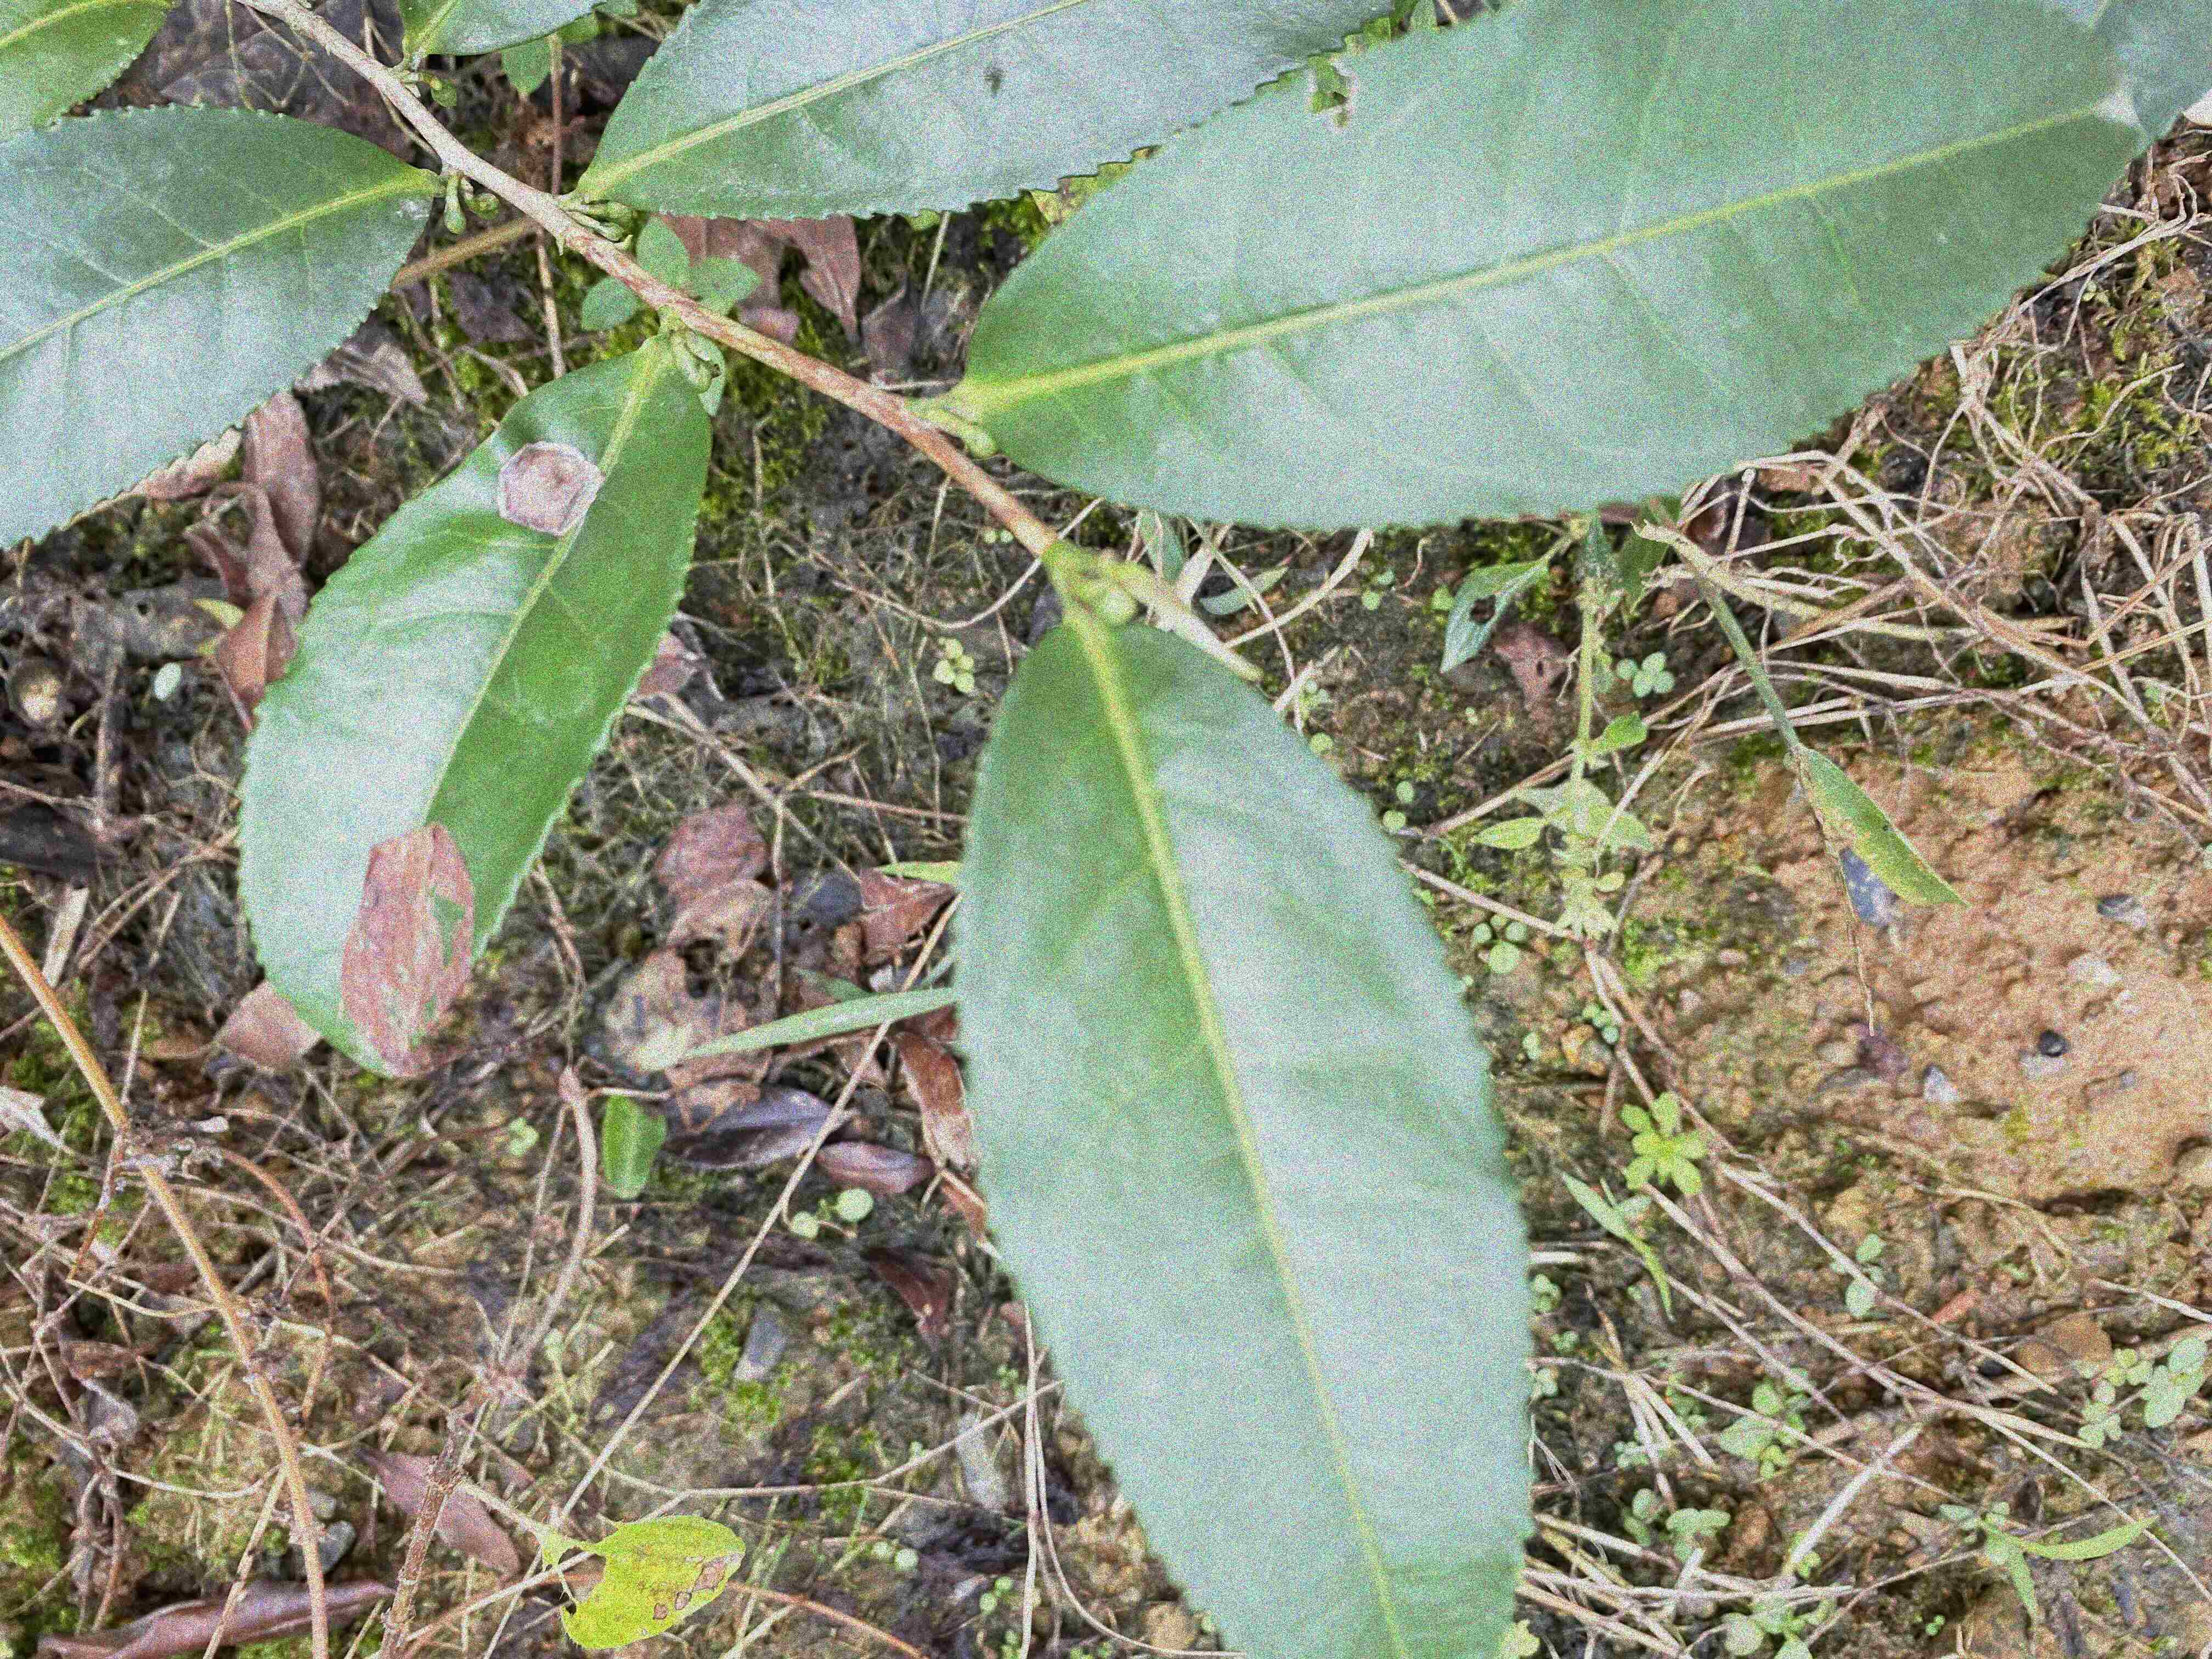chihuo_low: (963, 3, 2161, 533)
healthy: (949, 606, 1536, 1656), (5, 101, 437, 551)
tanju_high: (232, 336, 716, 1073)
